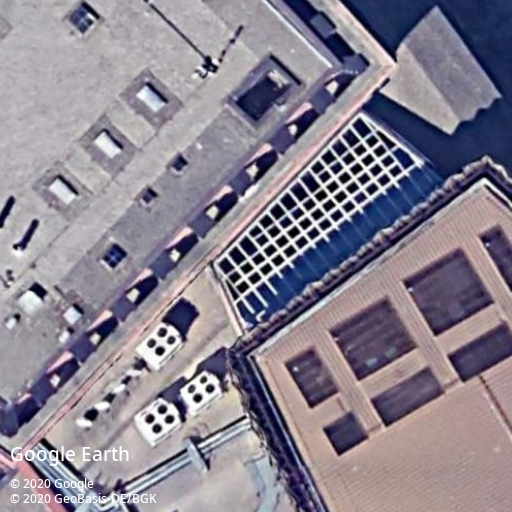Chiller: (134, 398, 181, 445), (134, 323, 183, 368), (179, 370, 221, 412)
